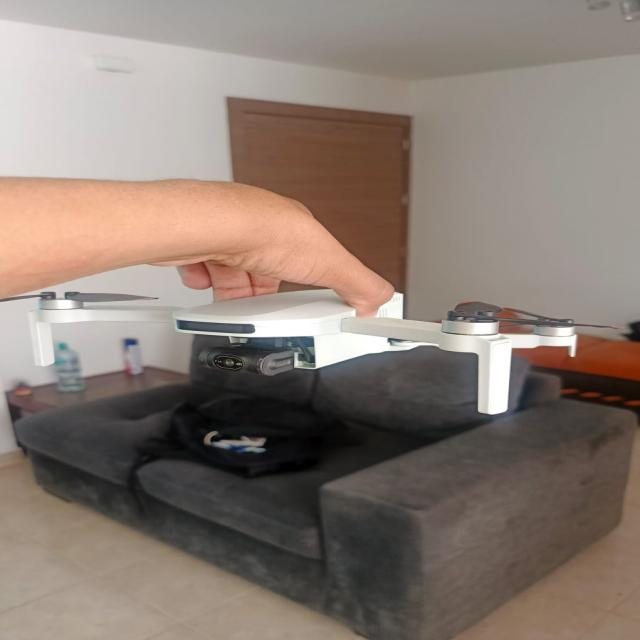dron: (7, 284, 622, 444)
